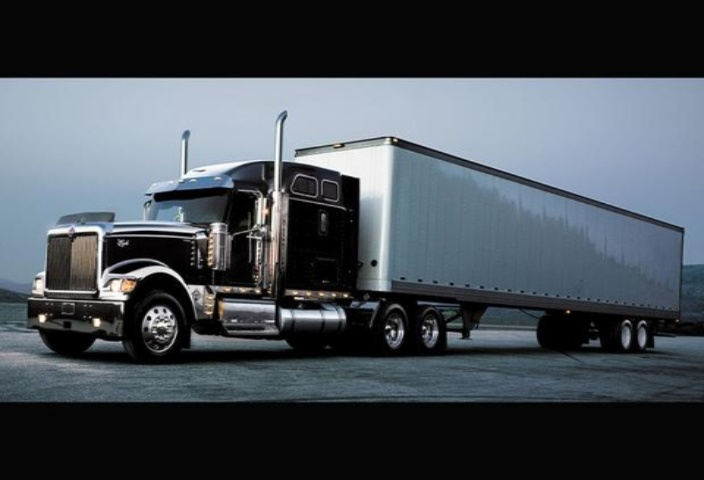truck: (6, 120, 697, 369)
